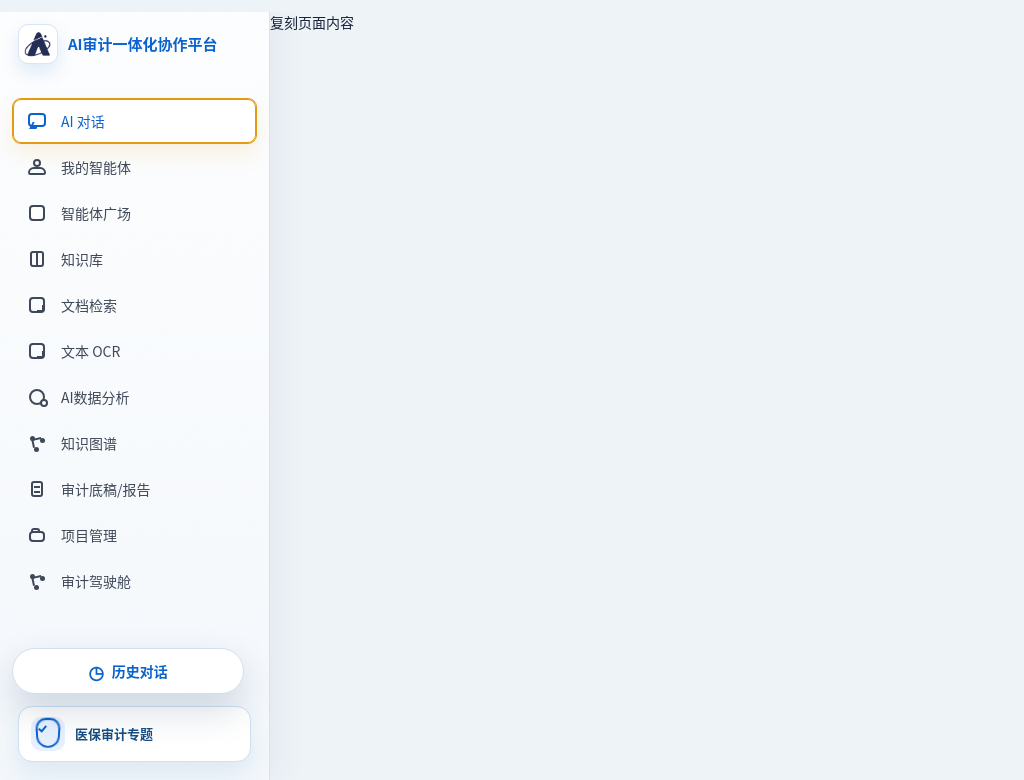
Test: ReplicaShell › requires an explicit visible project before converting one durable history item
Click the button with aria-label "打开历史对话" at (128, 671), box x1=12 y1=648 x2=244 y2=694
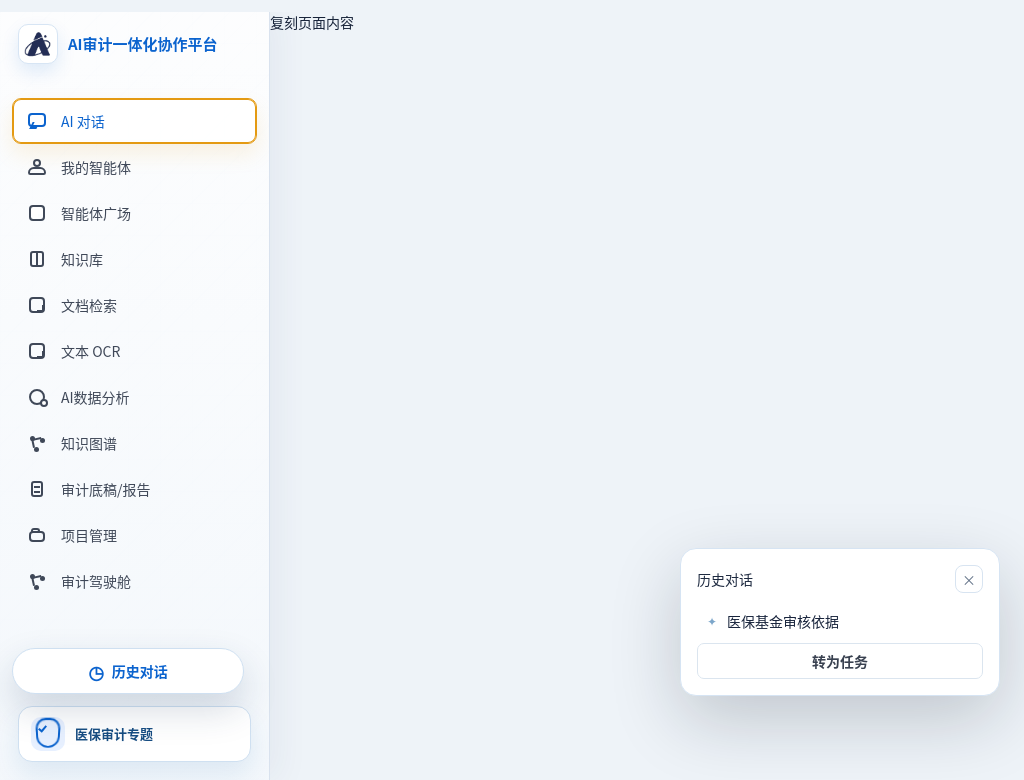
Click the button with aria-label "转为任务：医保基金审核依据" at (840, 661), box x1=697 y1=643 x2=983 y2=679
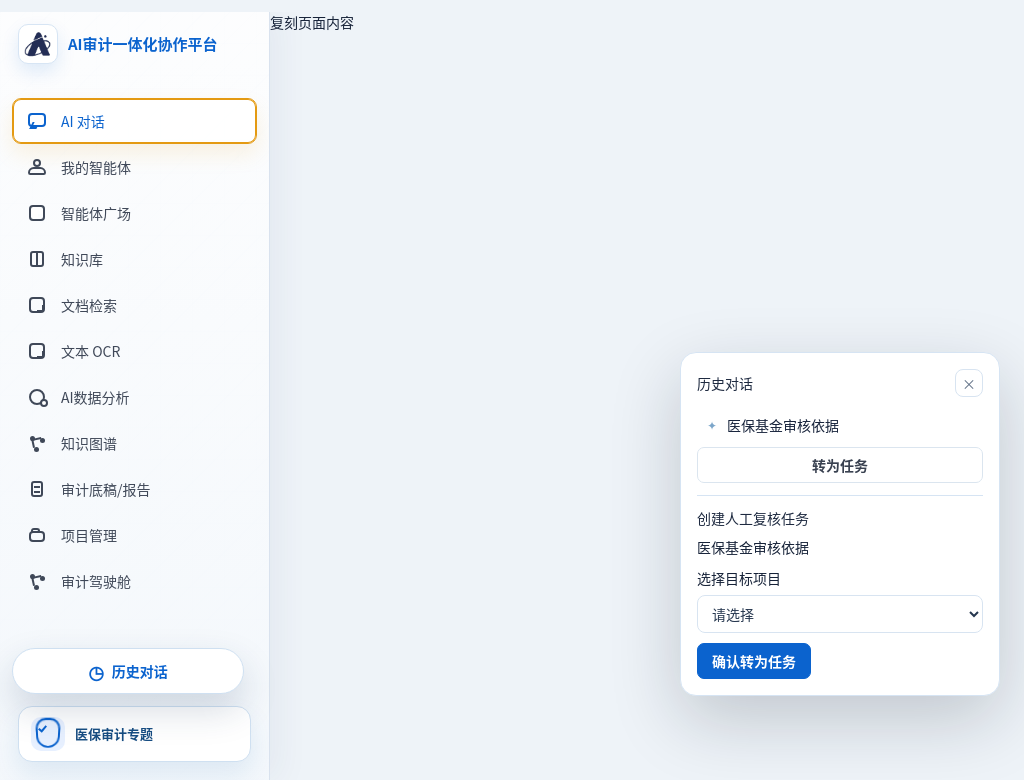
Now the button "确认转为任务" is disabled, box x1=697 y1=643 x2=811 y2=679
Select "医保基金使用合规专项自查" in the dropdown labelled "选择目标项目" at (840, 614), box x1=697 y1=595 x2=983 y2=633
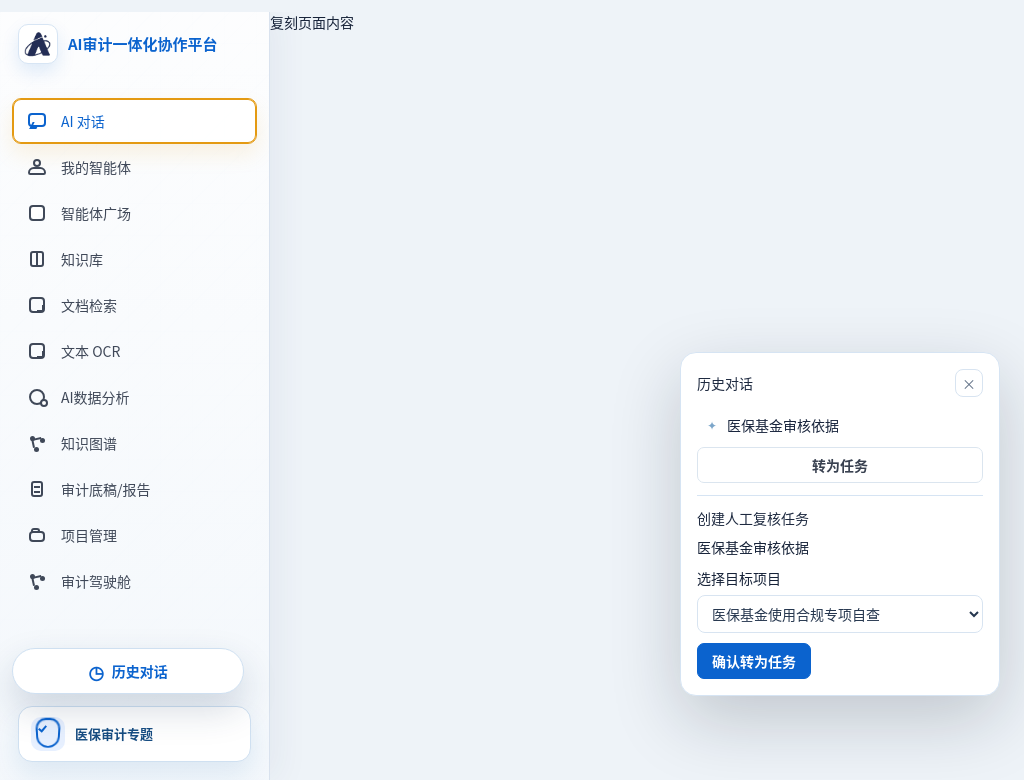
Click the button "确认转为任务" at (754, 661), box x1=697 y1=643 x2=811 y2=679
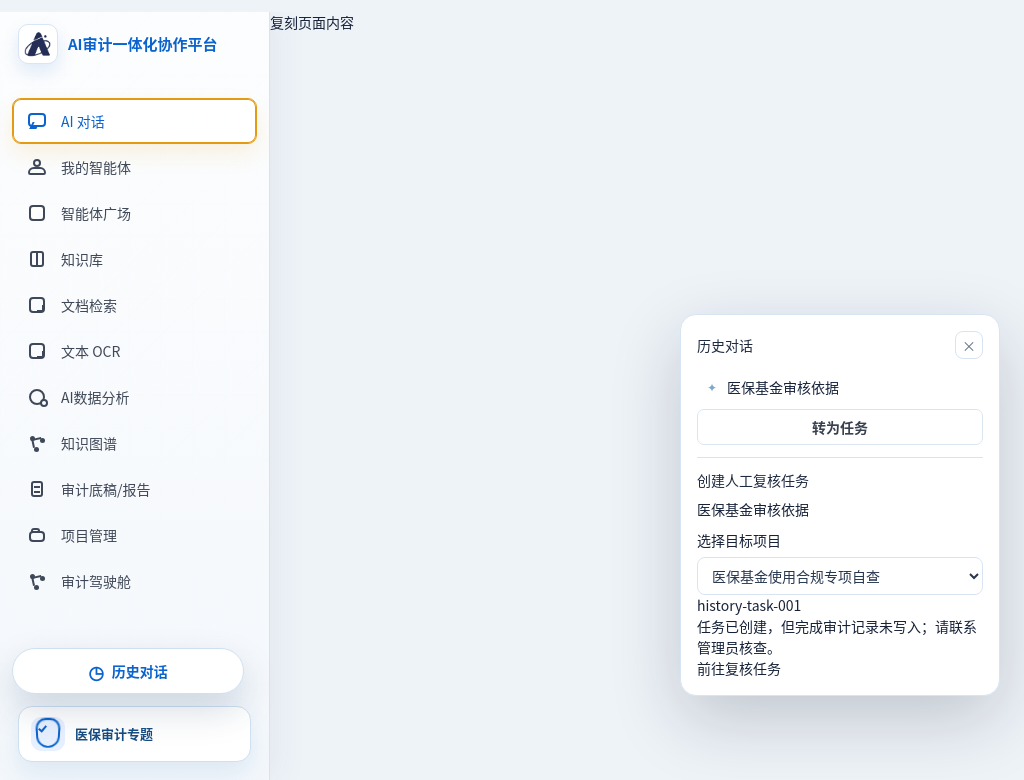
Now the text "history-task-001" is shown, box x1=697 y1=595 x2=801 y2=615
Now the message reads "任务已创建，但完成审计记录未写入；请联系管理员核查。", box x1=697 y1=616 x2=977 y2=657
